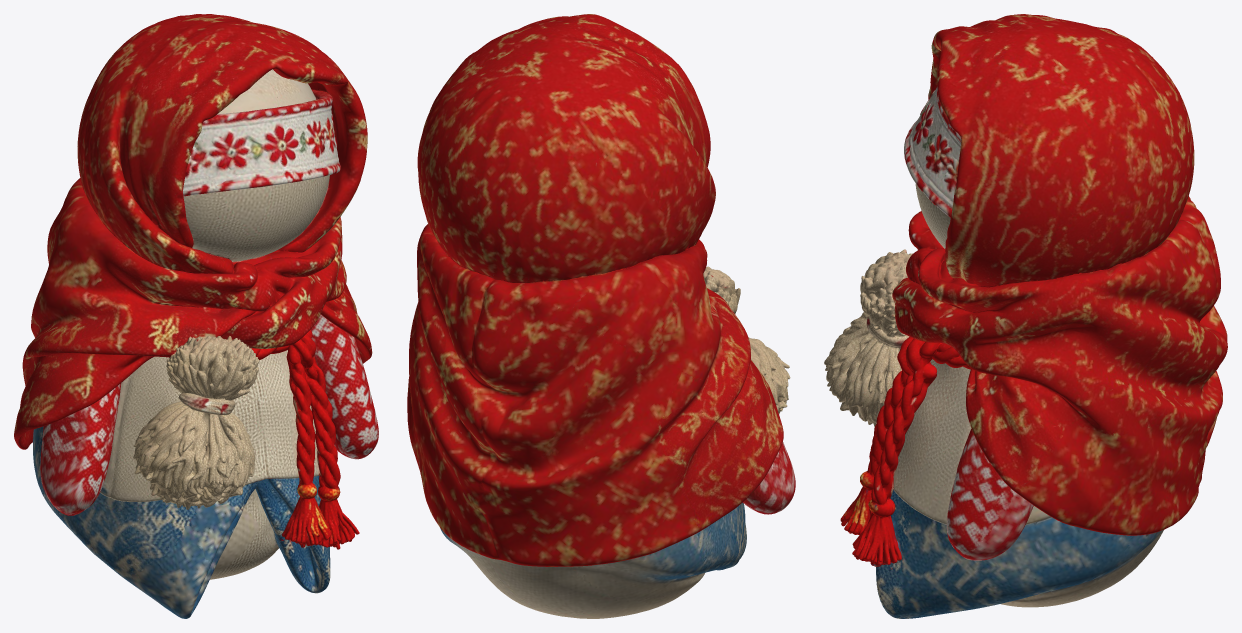
The model's file is belaya-kerchief-v2.glb.
3 views of the same model, side by side, from view 1: azimuth 30°, elevation 25°; view 2: azimuth 150°, elevation 25°; view 3: azimuth 270°, elevation 25° (orthographic). The views are drawn at different scales.
Visible parts, largest first — view 1: Doll — 10 cm; view 2: Doll — 10 cm; view 3: Doll — 10 cm.
Part boxes in pixels (x1=…): Doll — 10 cm: x1=14, y1=14, x2=378, y2=618; Doll — 10 cm: x1=407, y1=14, x2=795, y2=618; Doll — 10 cm: x1=824, y1=14, x2=1227, y2=618.
Bounding box in the file's own units: 0.0678 × 0.1 × 0.0638.
1 material, 1 textured.
